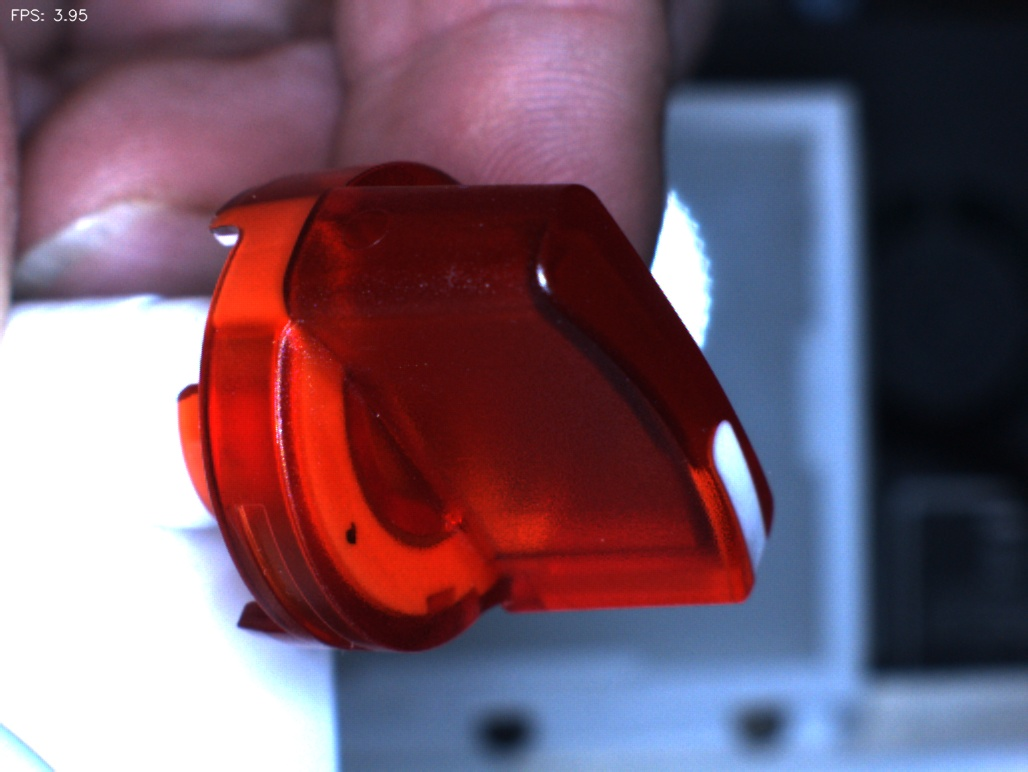PointNoir: (305, 492, 386, 575)
